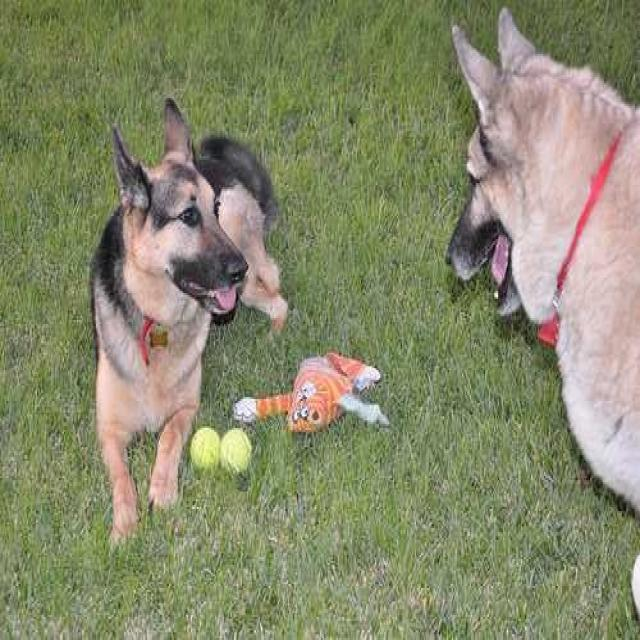Tennis_Ball: (225, 424, 253, 476), (191, 430, 221, 469)
